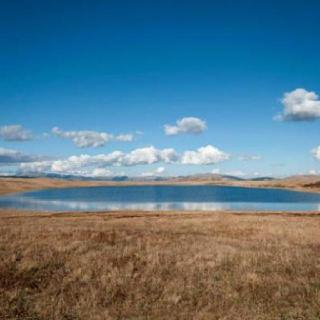Cirrocumulus: (0, 87, 320, 175)
